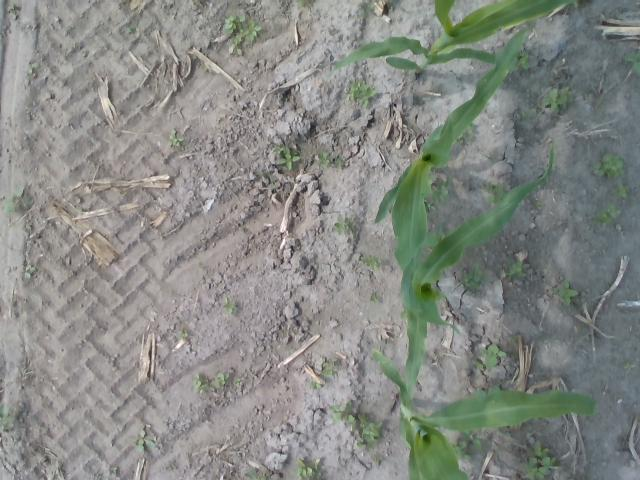Maize: (376, 26, 532, 332), (394, 143, 556, 433), (368, 346, 602, 480), (328, 0, 580, 76)
Weeds: (329, 400, 383, 451), (521, 440, 558, 480), (446, 428, 486, 462), (223, 12, 263, 46), (346, 78, 378, 108), (473, 344, 507, 371), (542, 86, 573, 115), (592, 154, 626, 180), (458, 263, 488, 292), (427, 174, 453, 206), (1, 188, 34, 213), (422, 223, 455, 248), (593, 202, 620, 228), (552, 280, 578, 306), (481, 181, 508, 205), (295, 457, 322, 480), (276, 148, 300, 171), (508, 50, 532, 72), (132, 430, 156, 452), (455, 122, 476, 146), (0, 401, 14, 433), (332, 216, 356, 234), (359, 254, 382, 272), (623, 50, 640, 74), (192, 372, 212, 392), (319, 358, 338, 377), (506, 260, 524, 278), (167, 128, 184, 147), (213, 372, 230, 388), (223, 298, 239, 315), (4, 1, 17, 20), (614, 184, 630, 198), (520, 106, 536, 120), (244, 471, 267, 480), (359, 1, 371, 18), (318, 150, 330, 166), (423, 199, 437, 212), (24, 264, 36, 278), (28, 62, 41, 74), (334, 155, 346, 168), (308, 380, 323, 390), (177, 330, 189, 340), (272, 144, 284, 154), (622, 362, 636, 370), (126, 27, 138, 34), (369, 294, 378, 303), (234, 377, 242, 386), (534, 200, 542, 208), (374, 456, 382, 464), (296, 0, 306, 5)
